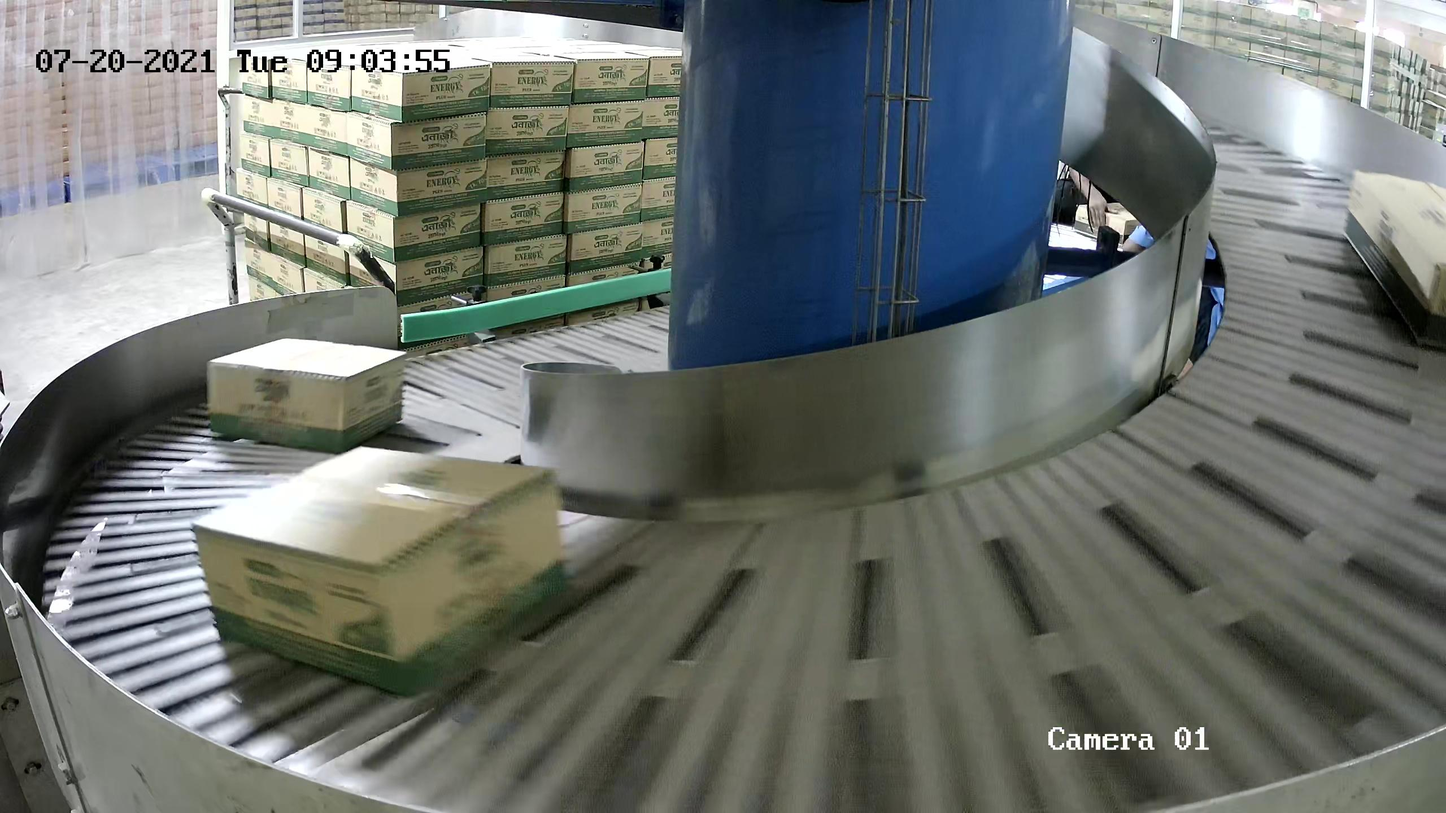Box: (188, 442, 576, 698), (207, 336, 406, 451), (1339, 169, 1446, 352)
